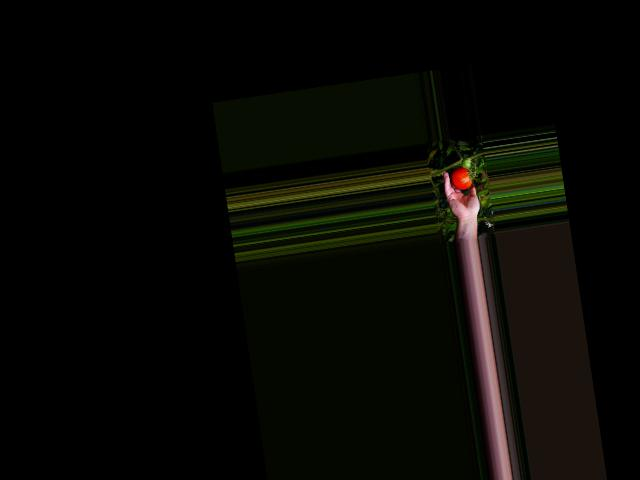tomato: (449, 165, 473, 191)
